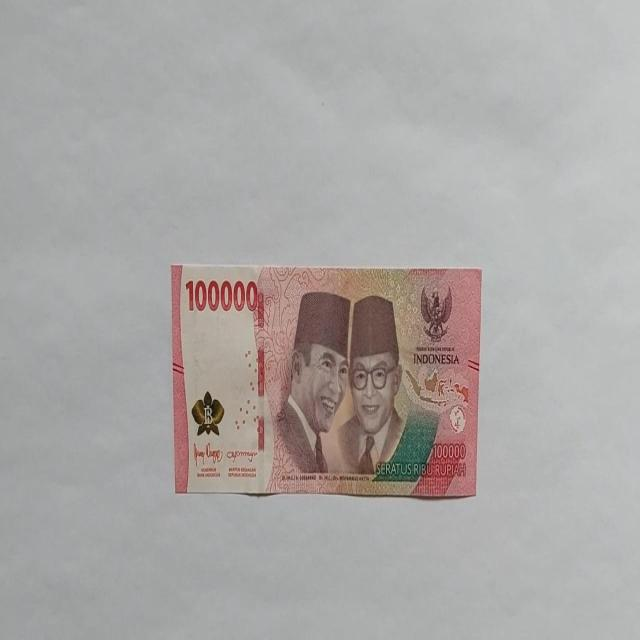Kertas: (170, 262, 482, 499), (184, 276, 258, 314)
